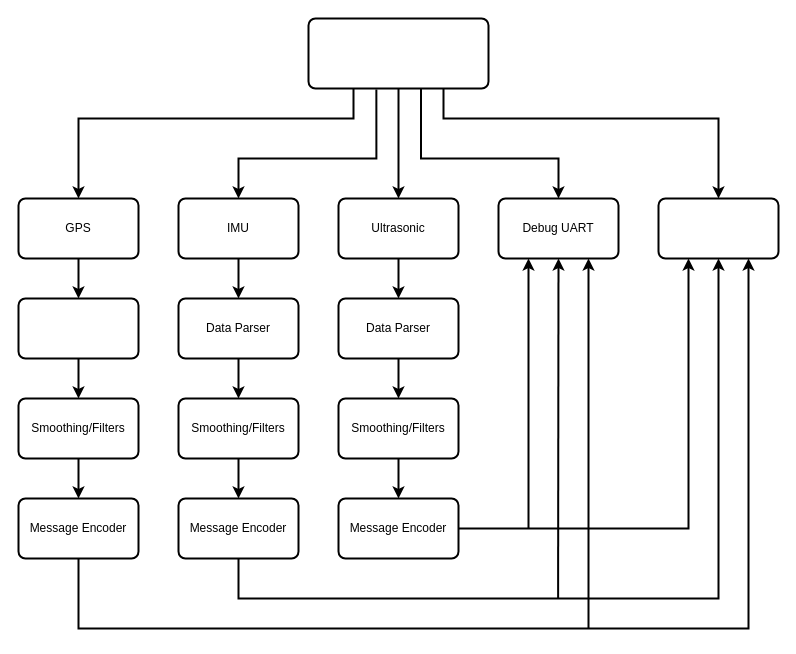
Some shapes in this 796 by 654 pixel diagram are drawn without their labels. Here are the shapes that lost their labels. From the top down, the box of each, then its label:
(307, 17, 489, 89): FreeRTOS
(657, 197, 779, 259): Jetson UART
(17, 297, 139, 359): NMEA Parser
